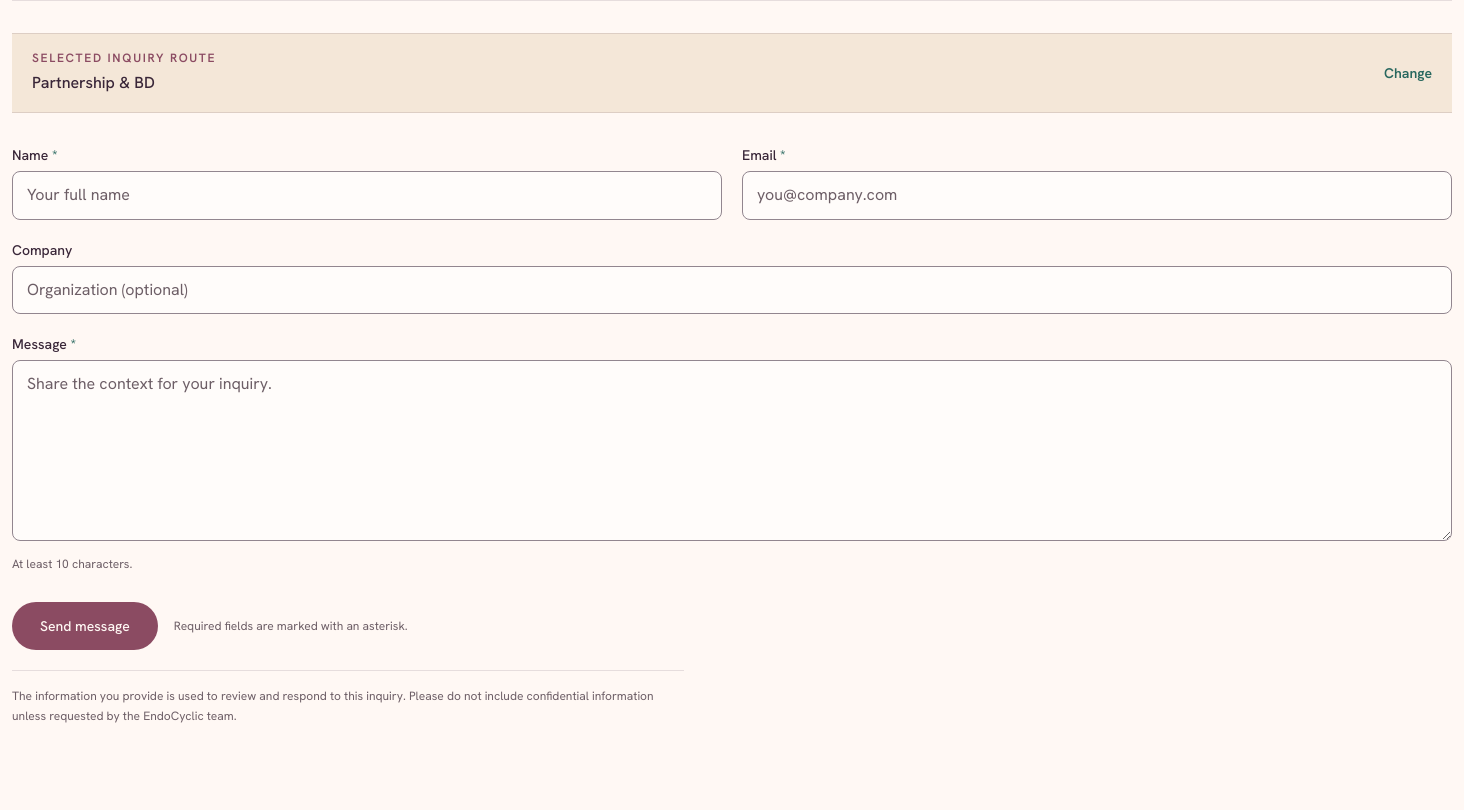
Test: ContactForm subject chooser › freezes the submitted inquiry while delivery is pending
Type "Ada Lovelace" into the field labelled "Name". click: (367, 196)
box: [12,171,722,220]
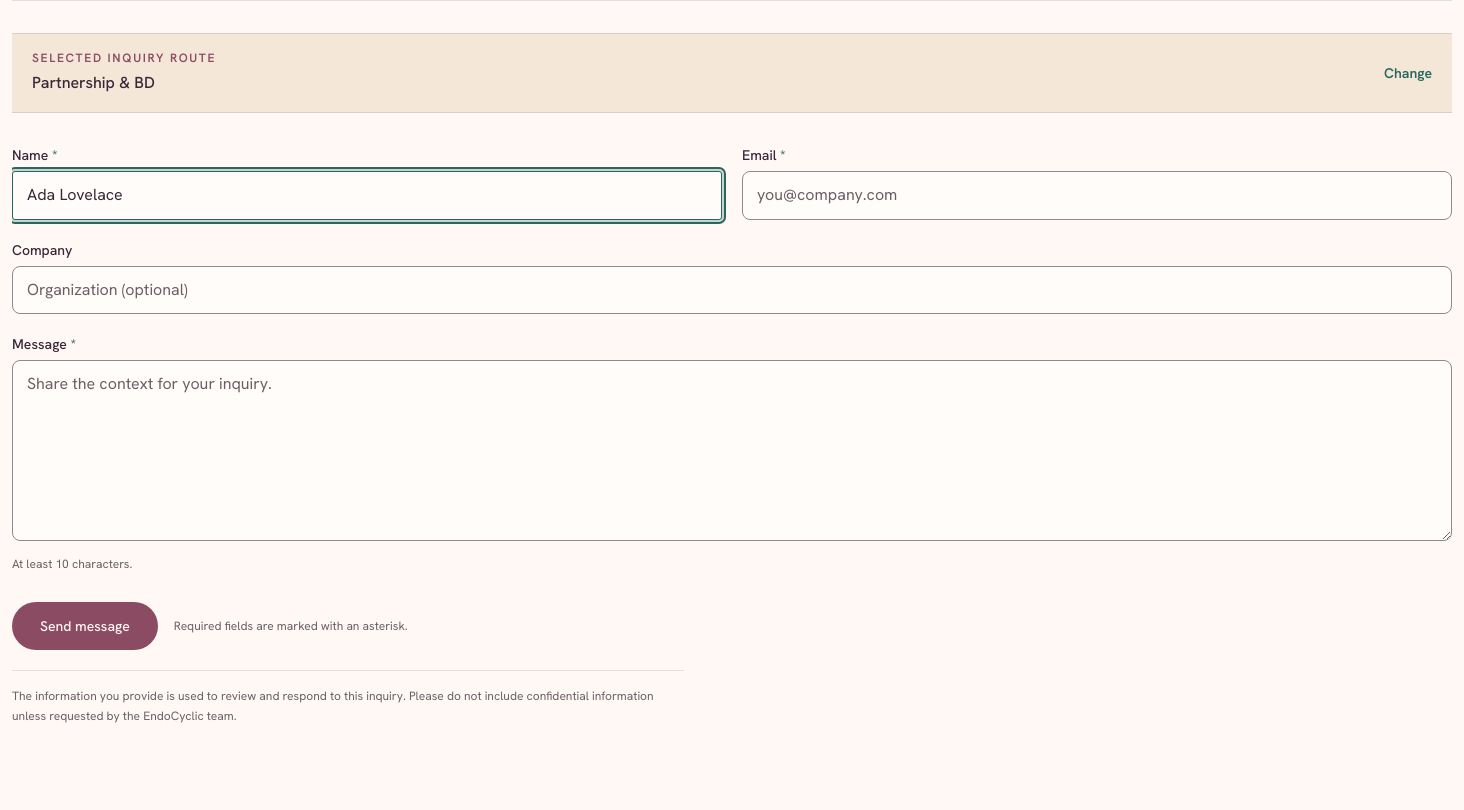
Type "ada@example.com" into the field labelled "Email". click: (1097, 196)
box: [742,171,1452,220]
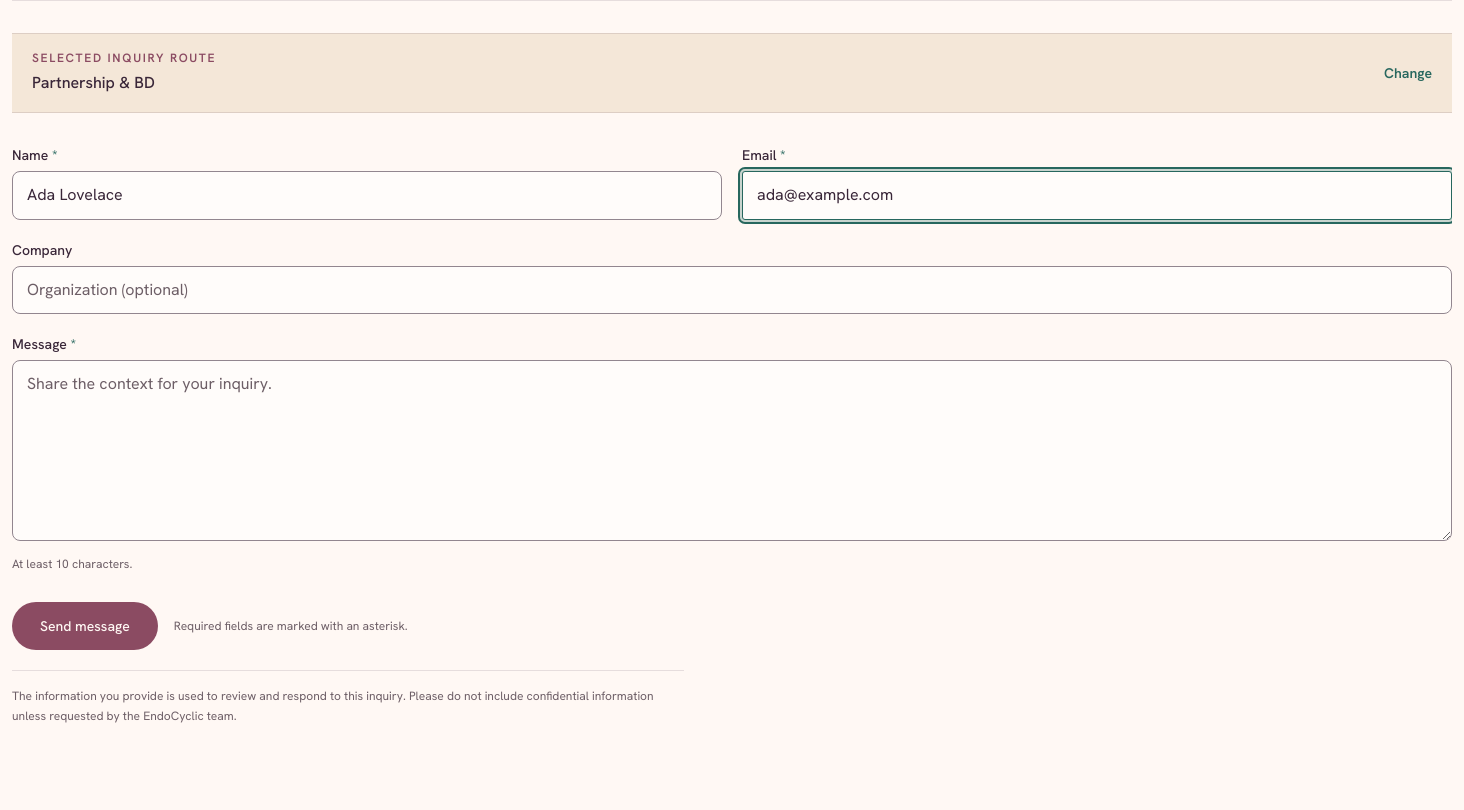
Type "I would like to discuss a potential partnership." into the text box labelled "Message". click: (732, 450)
box: [12,360,1452,540]
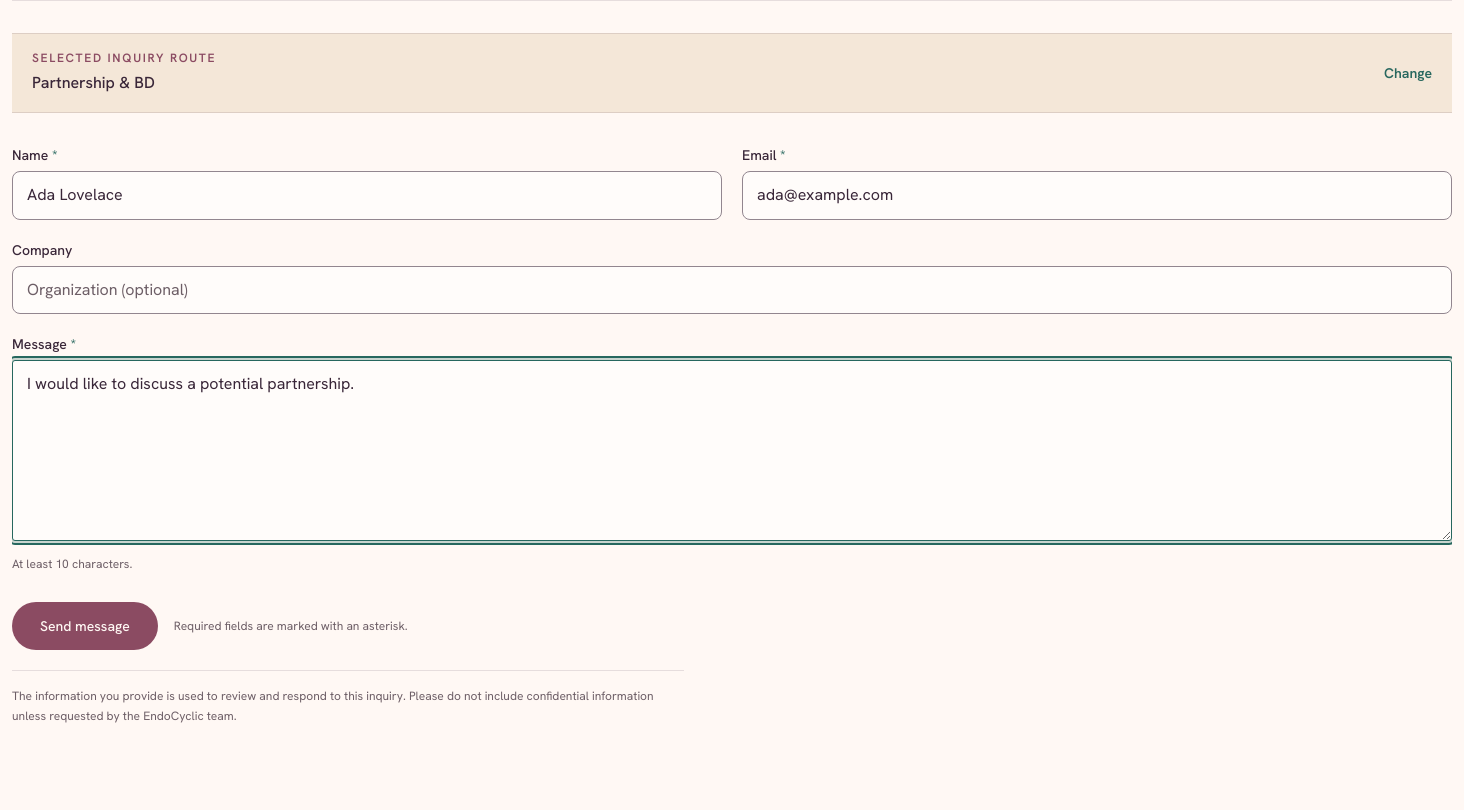
Click the button "Send message". click: (85, 626)
box: [12,602,158,650]
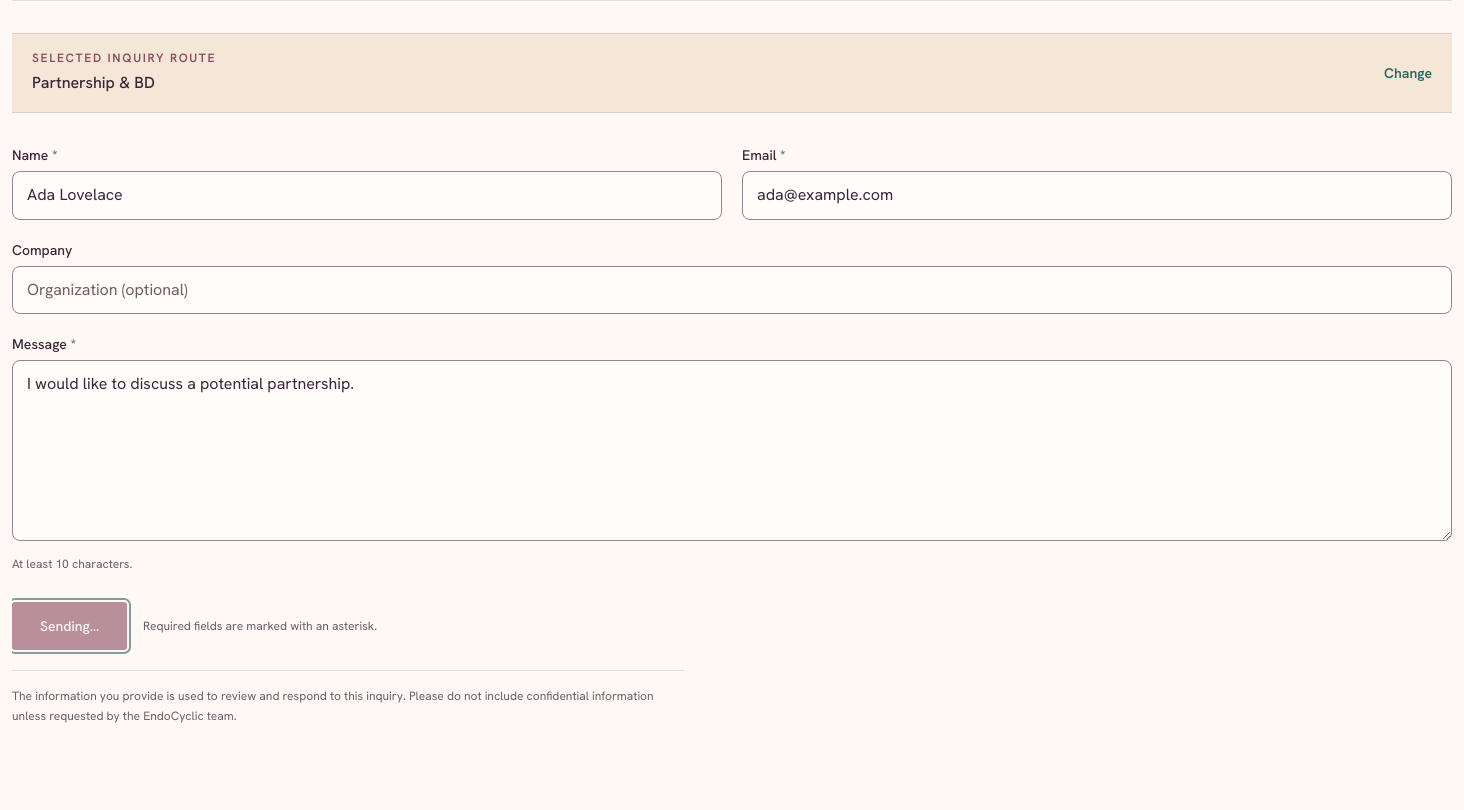
Expected: the field labelled "Name" is disabled, [12,171,722,220]
Expected: the button named "Send message" reads "Sending…", [12,602,127,650]
Expected: the button named "Send message" is enabled, [12,602,127,650]
Submit the form named "Contact inquiry"
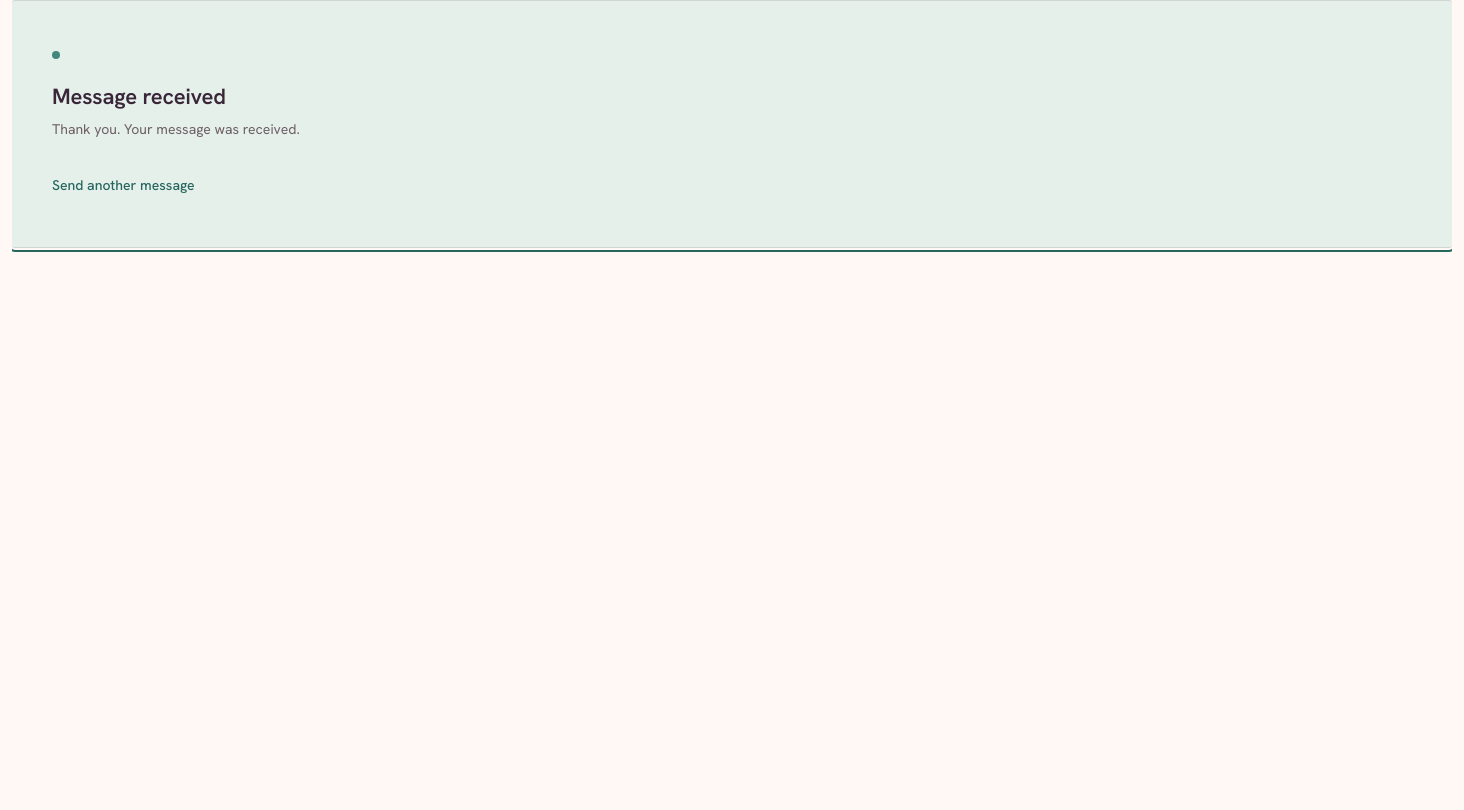
Expected: the message shows "Thank you. Your message was received.", [52,120,300,138]
